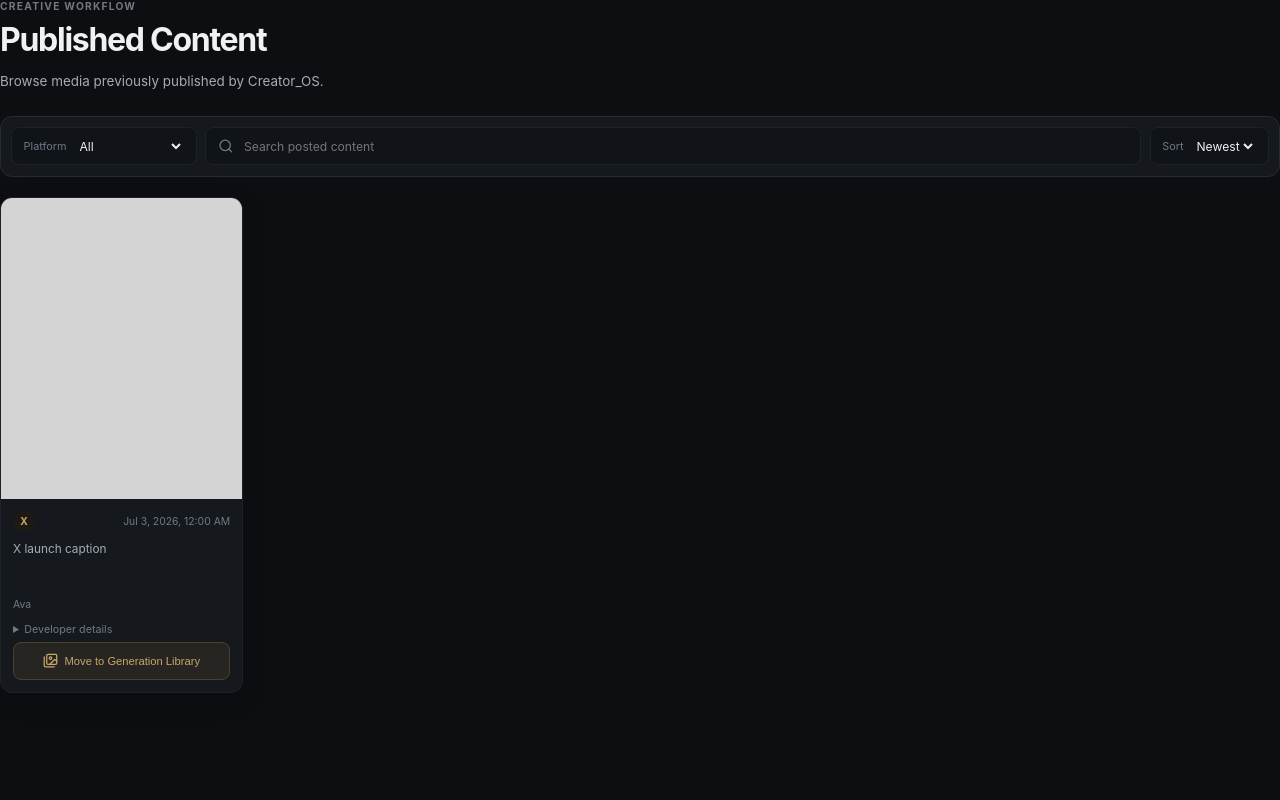
PostedContentPage › keeps the card visible when a move fails
This screenshot has width=1280, height=800.
Expected: the text "X launch caption" is shown, [13,542,106,556]
Click the button "Move to Generation Library" at coordinates (122, 661), box [13,642,230,680]
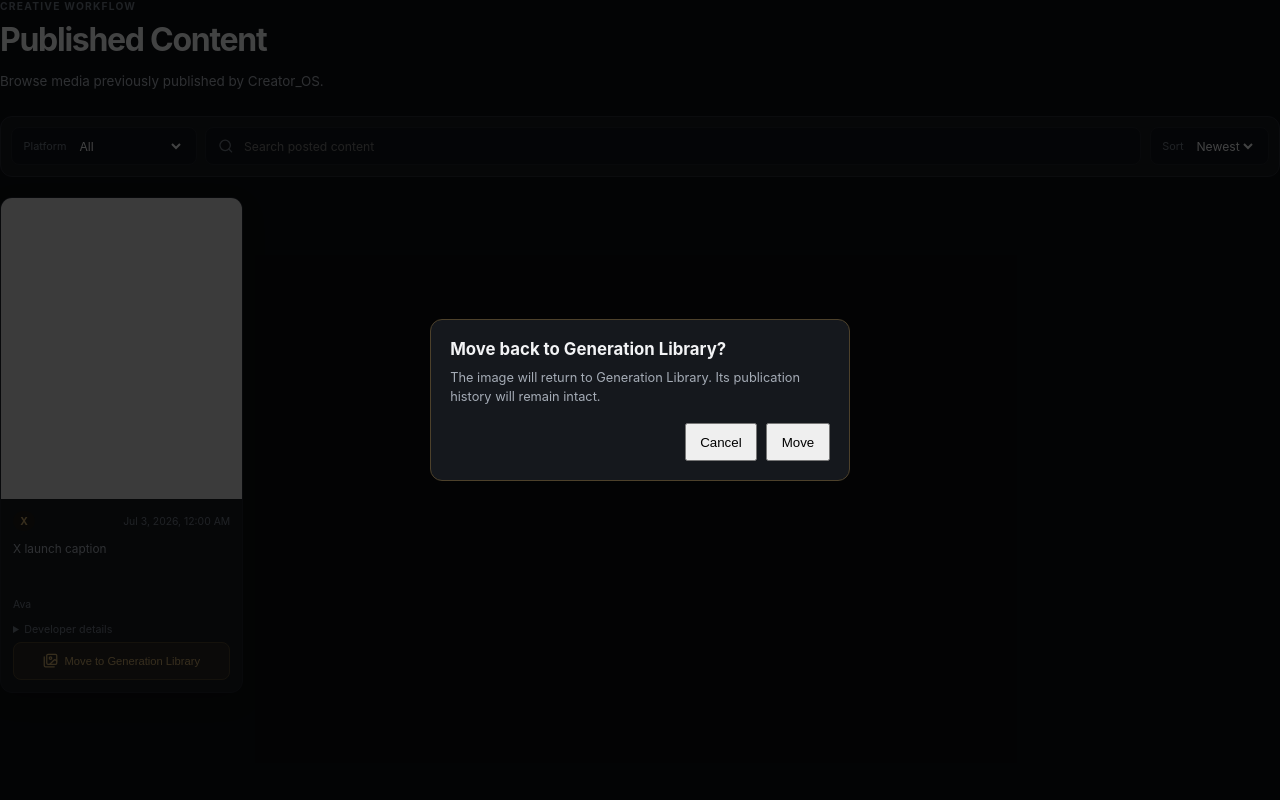
Click the button "Move" at coordinates (798, 442), box [766,423,830,461]
(page scrolled)
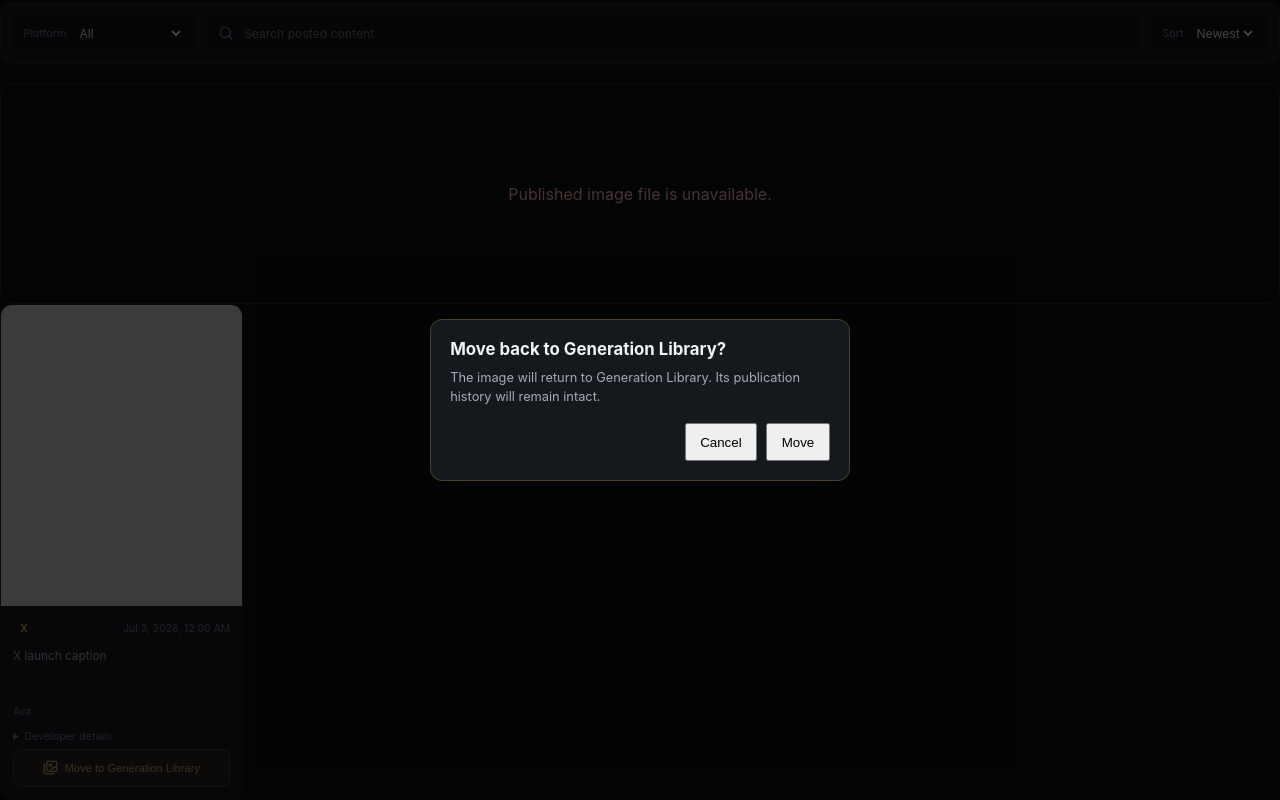
Expected: the text "X launch caption" is shown, [13,650,106,664]
Expected: the message shows "Published image file is unavailable", [508,184,772,204]
